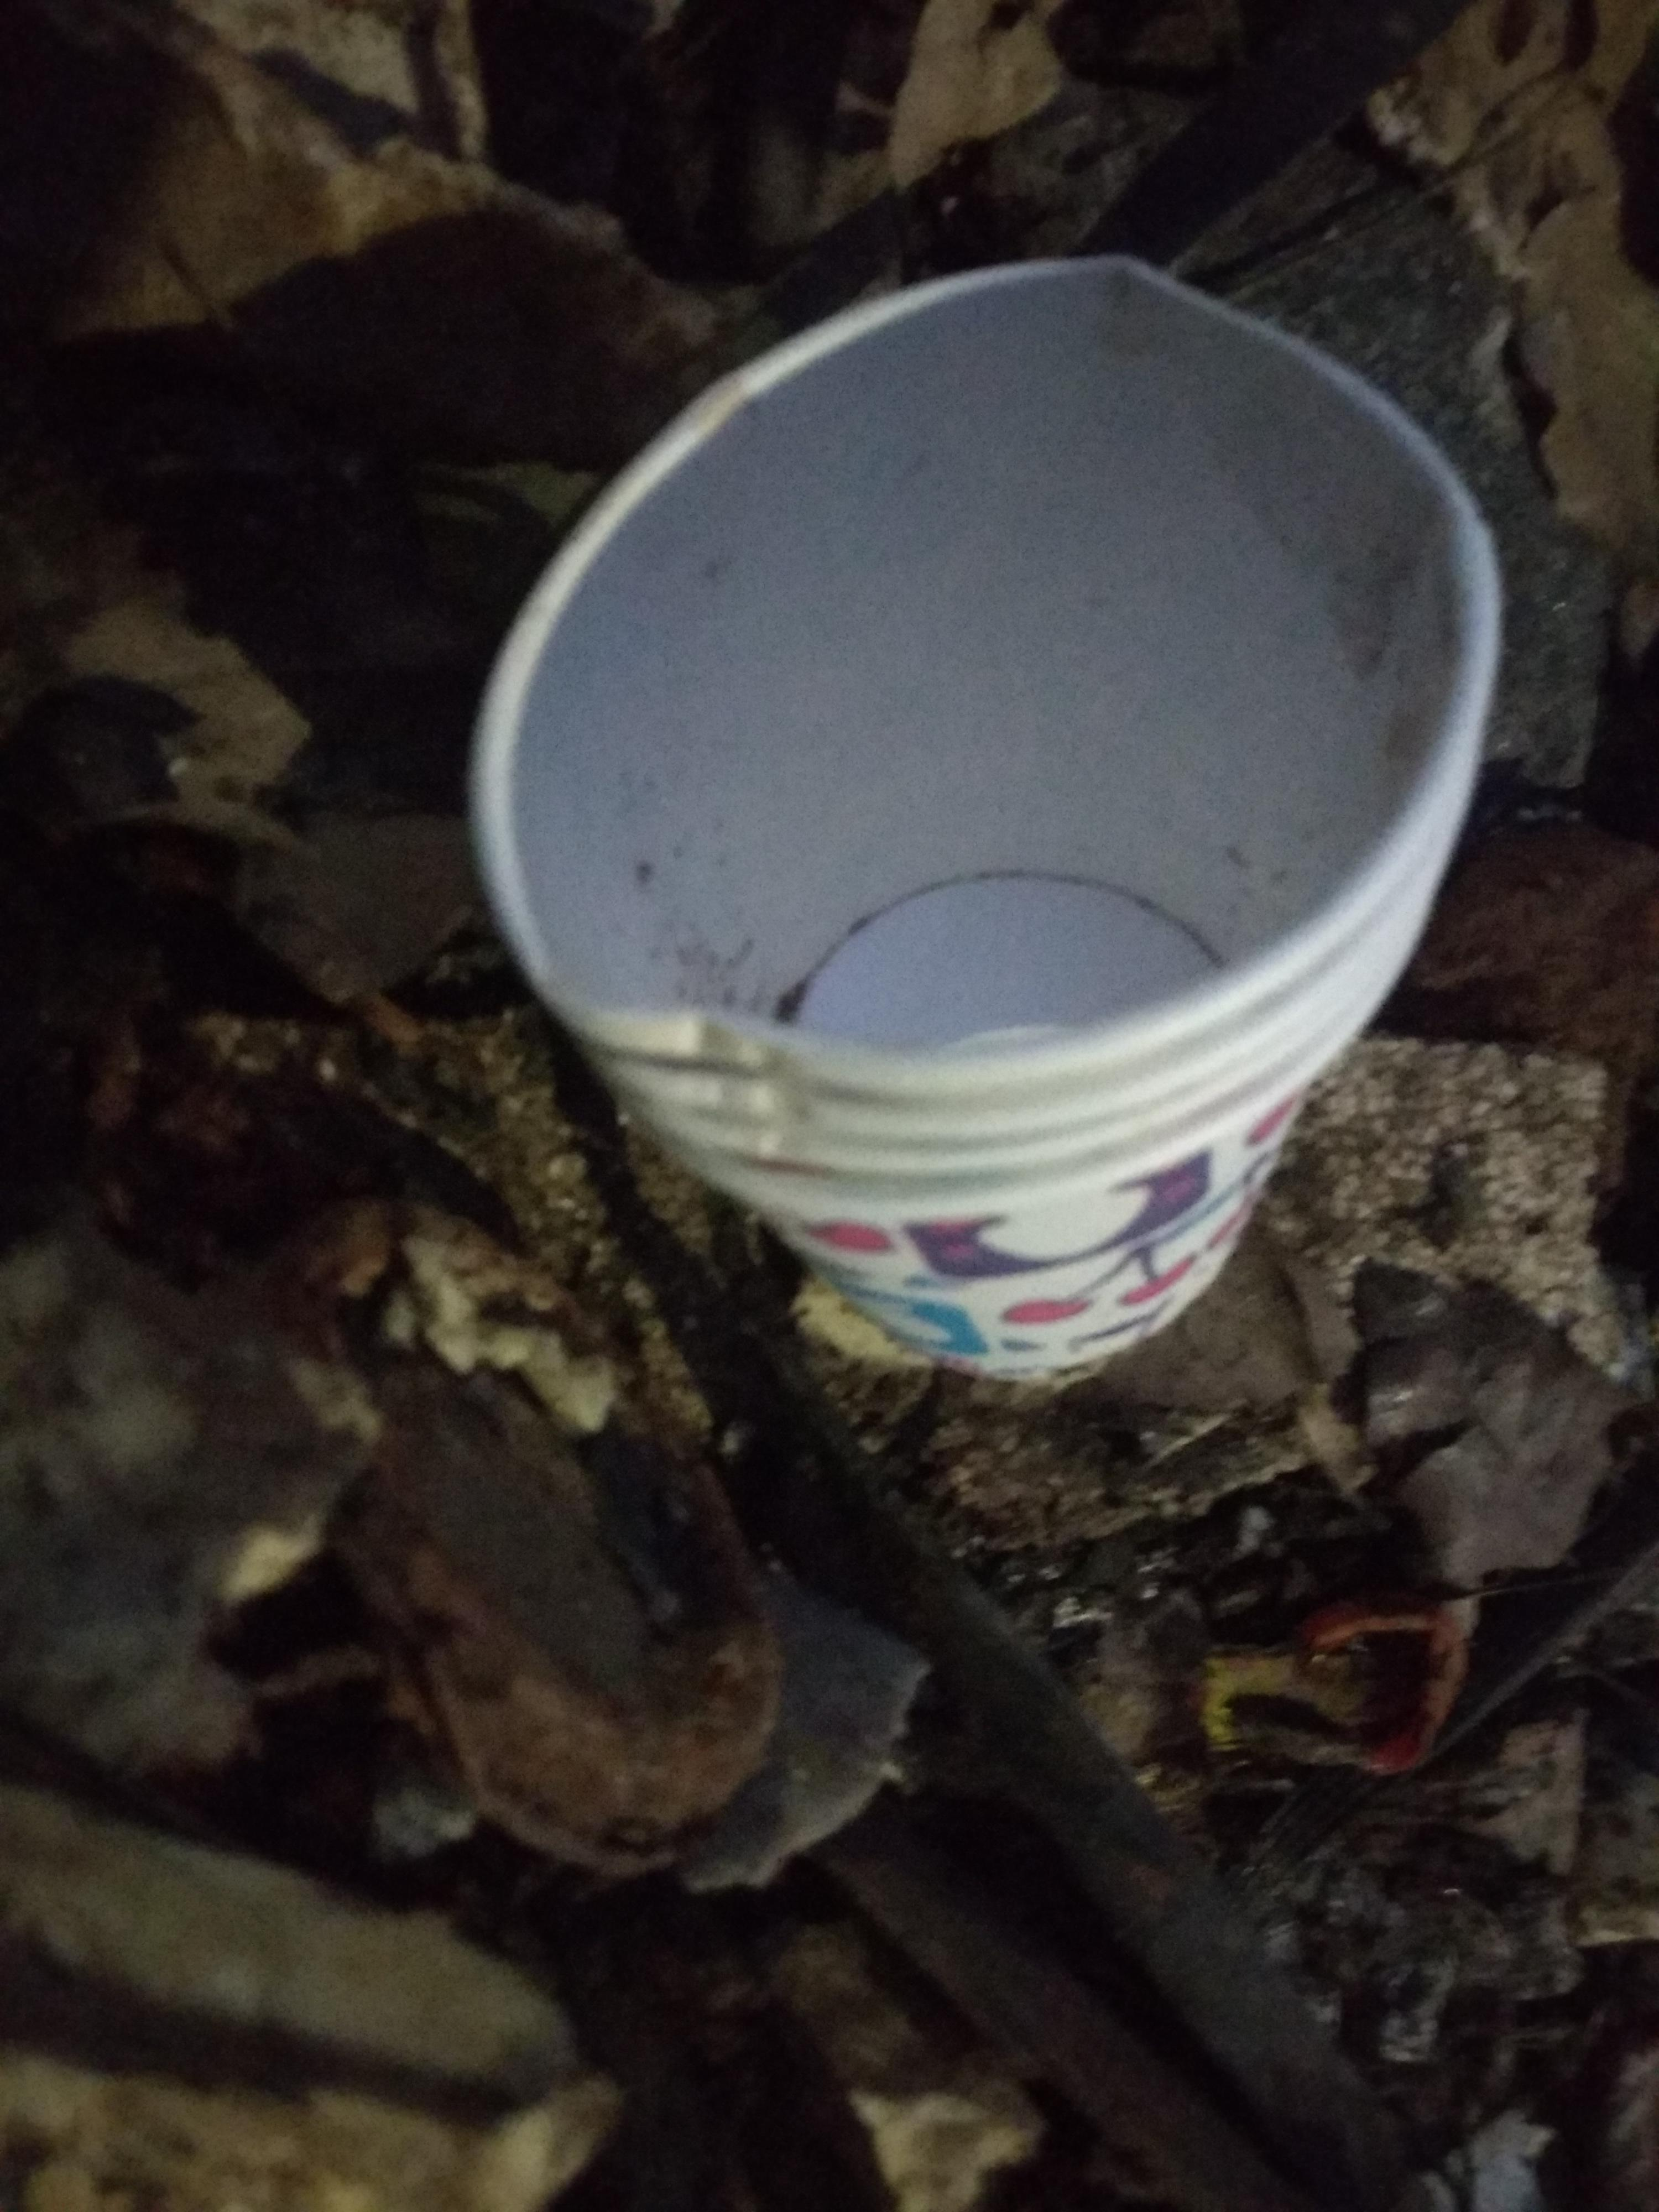trash: (453, 242, 1514, 1393)
